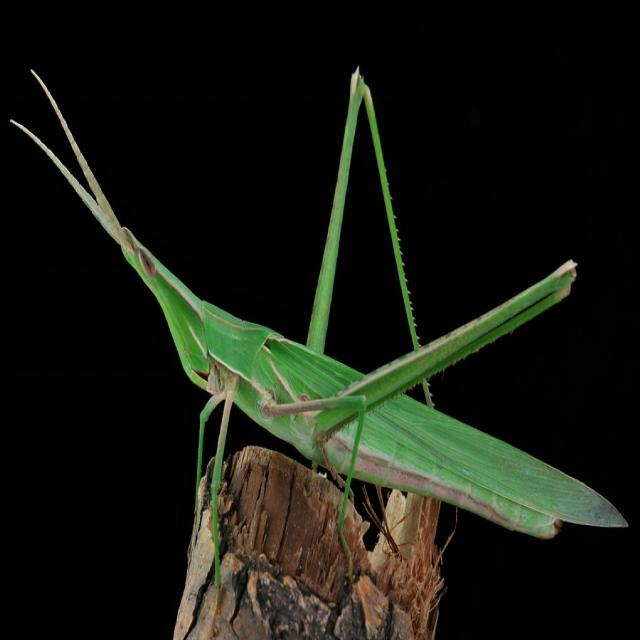ZhaMeng: (15, 38, 628, 562)
